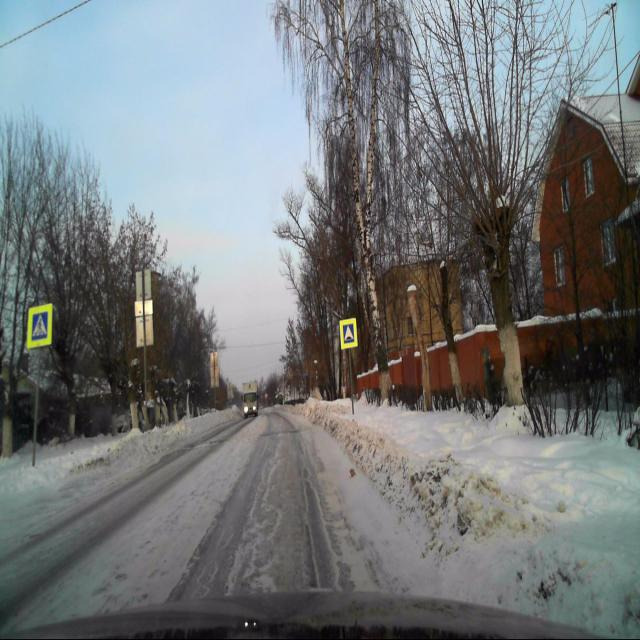road sign: (28, 303, 52, 348), (340, 318, 358, 351)
